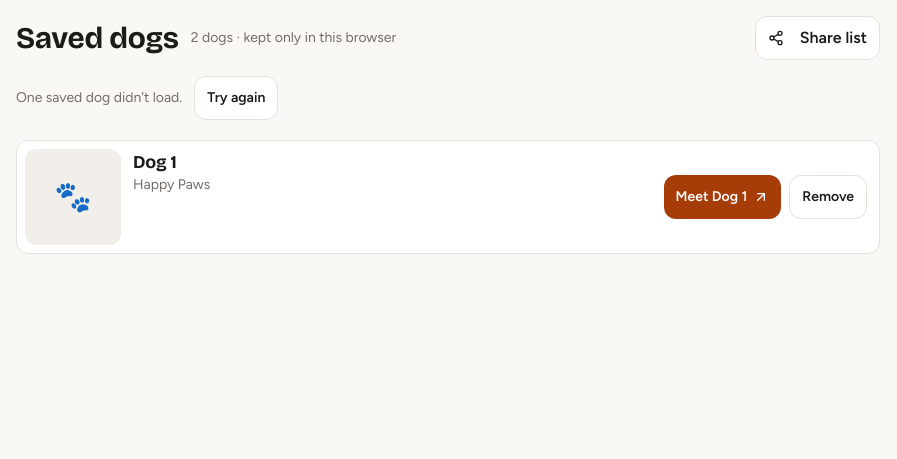
Test: Favorites page (#498) › a later failed fetch keeps the dogs already loaded (#533)
Expected: the message shows "One saved dog didn't load.", [16, 89, 182, 106]
Expected: the number of list items is 1, [16, 140, 880, 254]
Click the button "Try again": (236, 98) [194, 76, 278, 120]
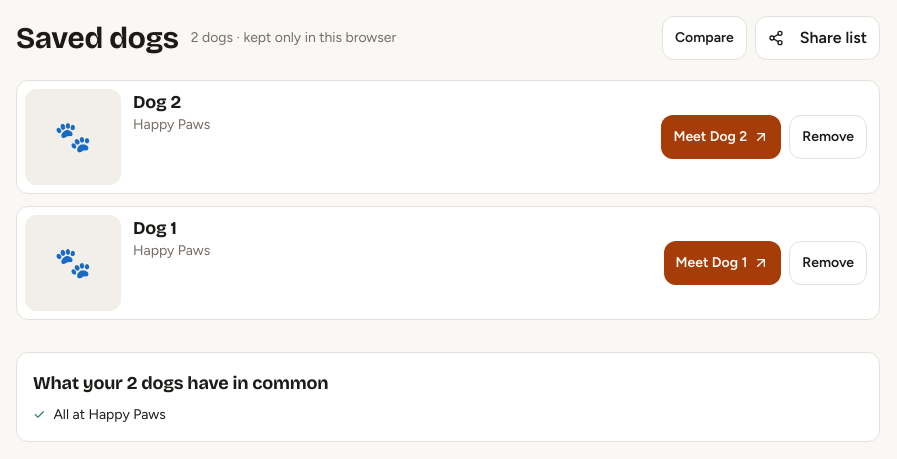
Expected: the message "One saved dog didn't load. Try again" is gone
